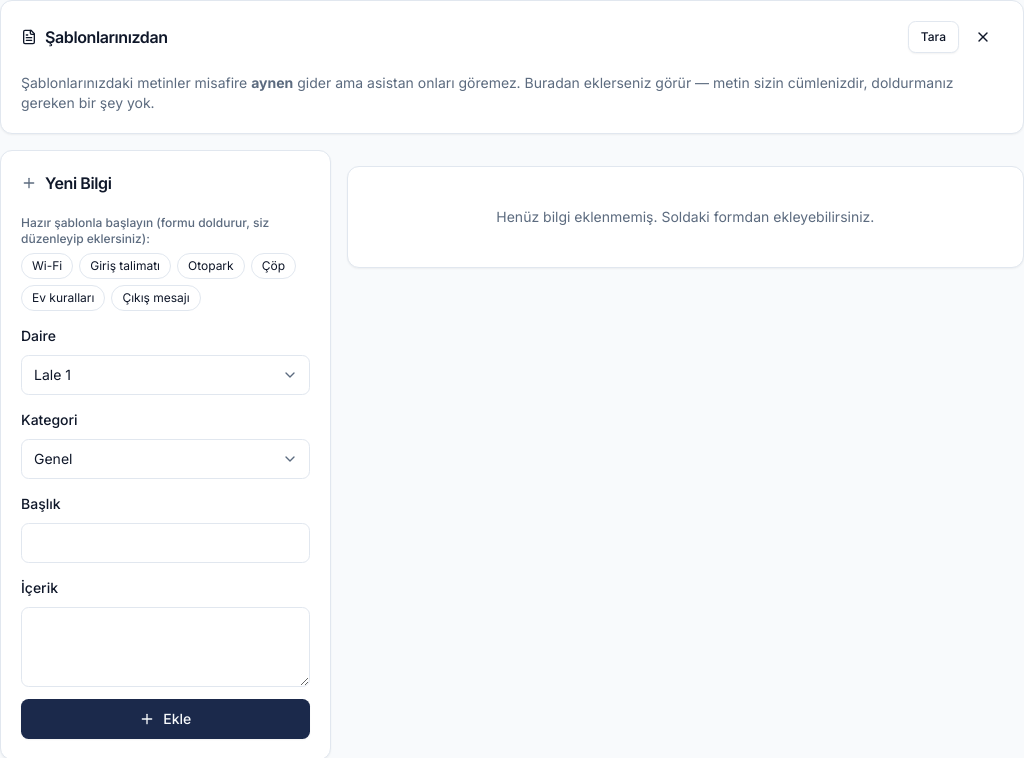
Test case: Bilgi tabanı formu (KbManager) › kurucu D1: kaydedilen bilgi listede yoksa (silinmiş olabilir) liste yenilenir ve sessiz kalınmaz
The width and height of the screenshot is (1024, 758).
Type "Otopark" into the field with id "kb-title" at point(165, 543), box top-left (21, 523), bottom-right (310, 563)
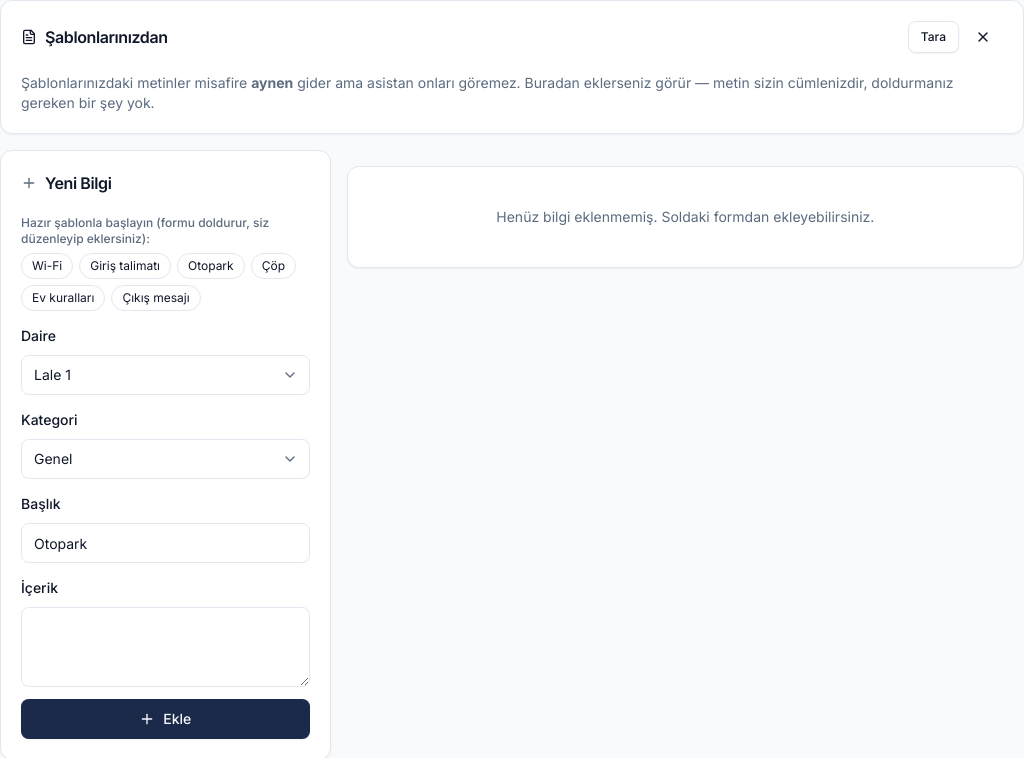
Type "Bina önünde ücretsiz otopark var." into the text box with id "kb-content" at point(165, 647), box top-left (21, 607), bottom-right (310, 687)
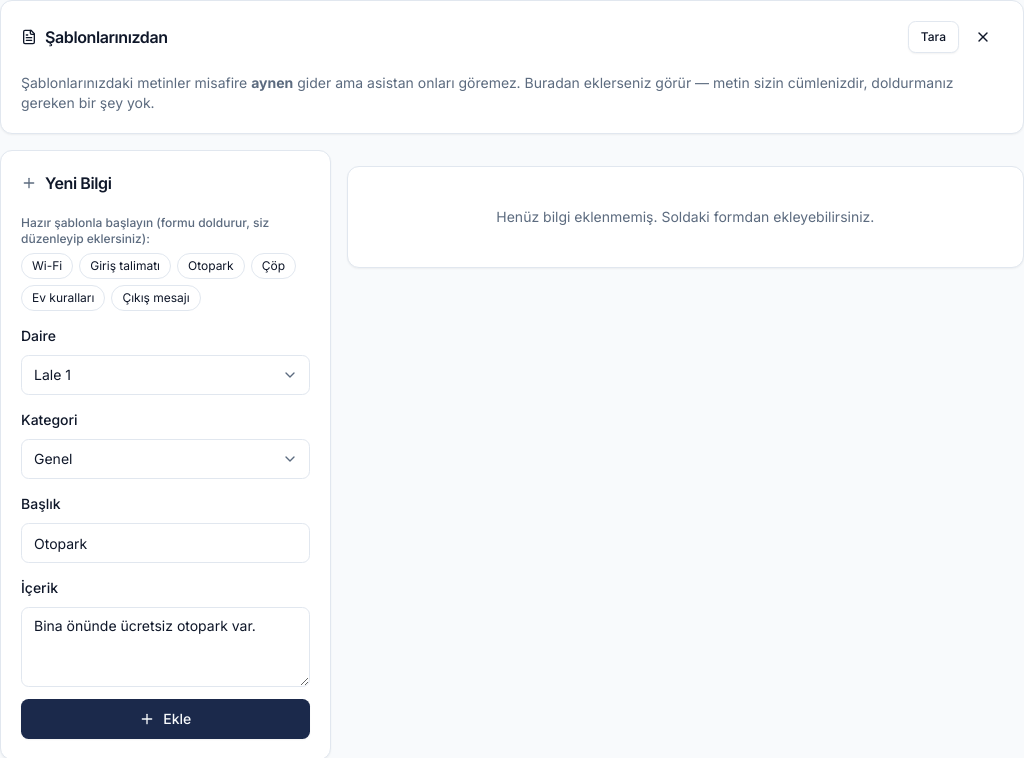
Click the button "Ekle" at point(165, 719), box top-left (21, 699), bottom-right (310, 739)
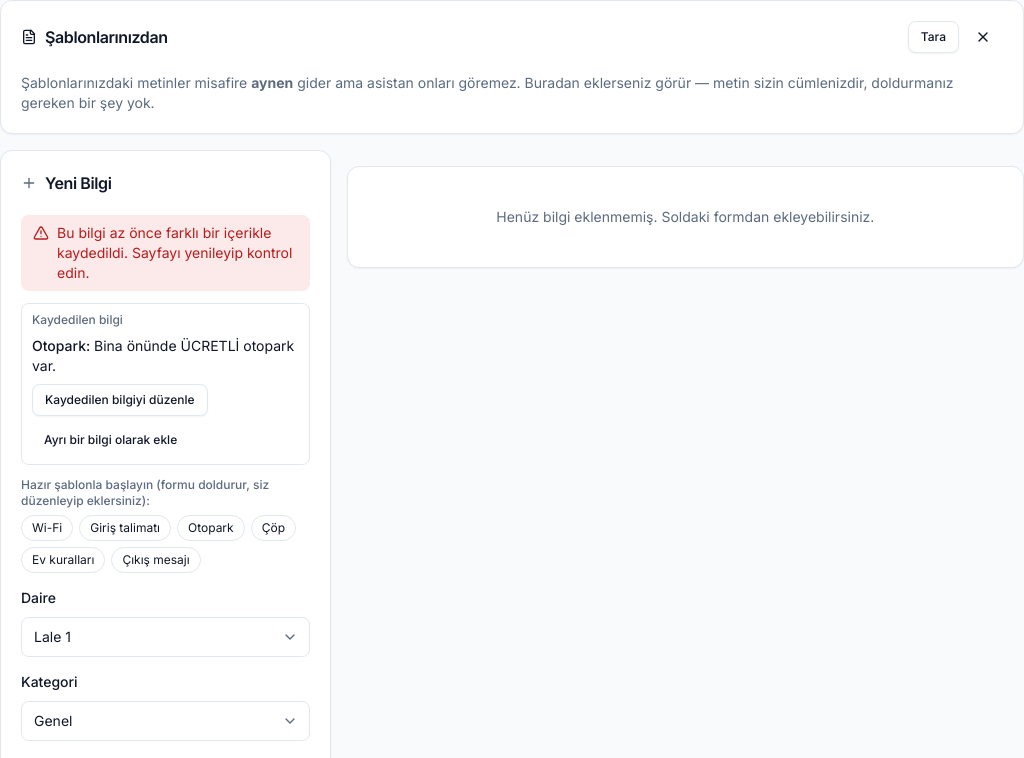
Click the button "Kaydedilen bilgiyi düzenle" at point(120, 400), box top-left (32, 384), bottom-right (208, 416)
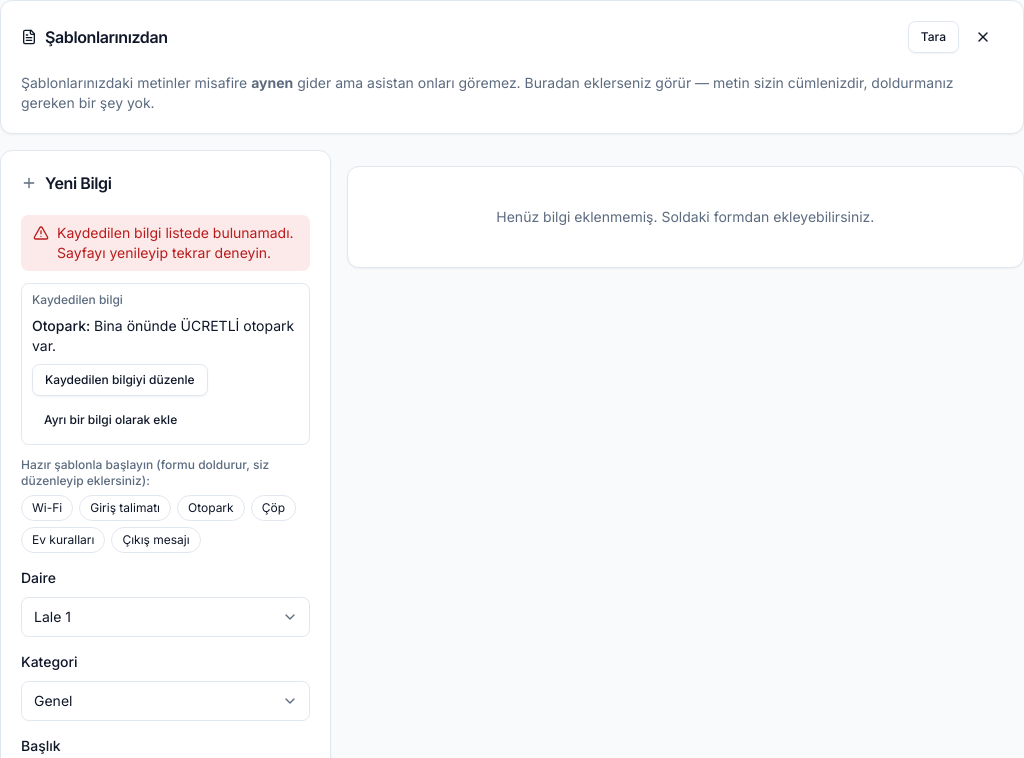
Now the text "Kaydedilen bilgi listede bulunamadı. Sayfayı yenileyip tekrar deneyin." is shown, box top-left (57, 223), bottom-right (298, 263)
